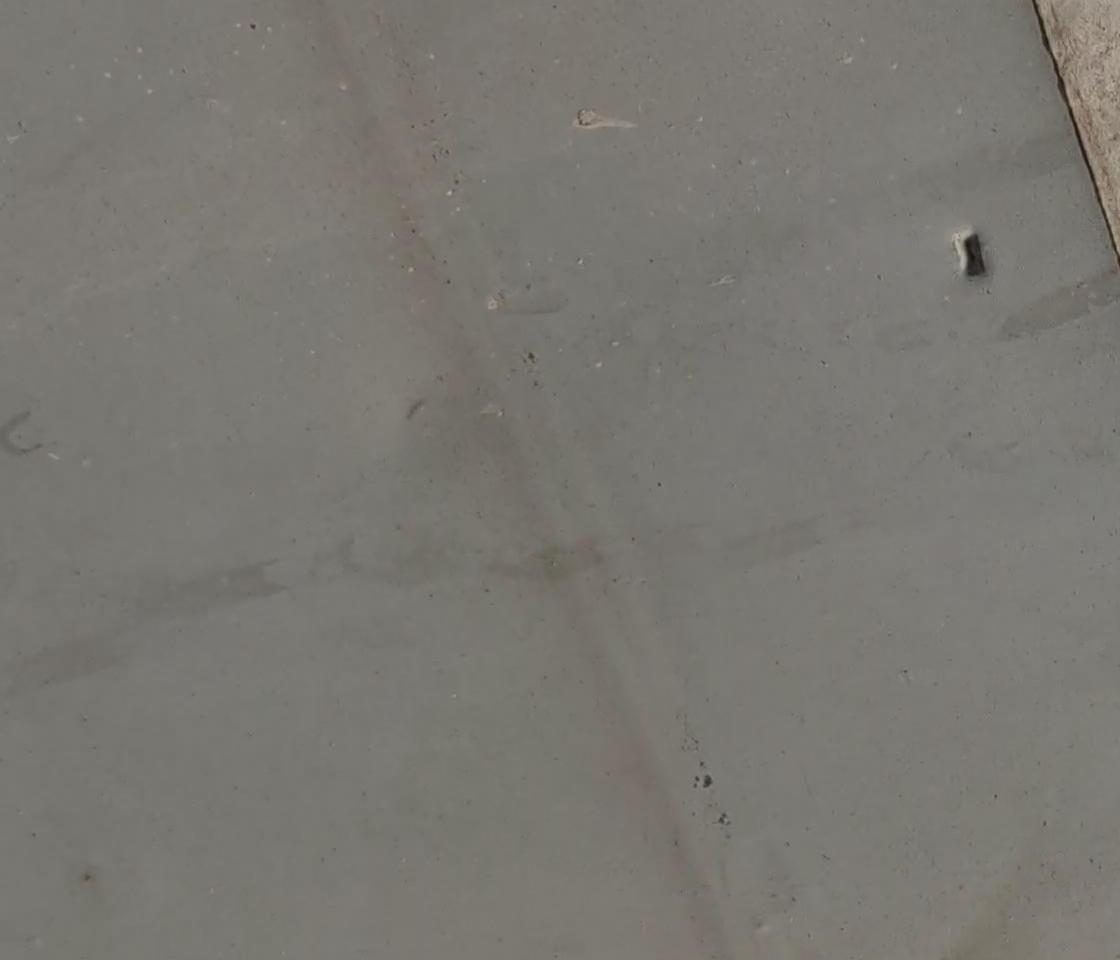scratch: (567, 104, 642, 135)
